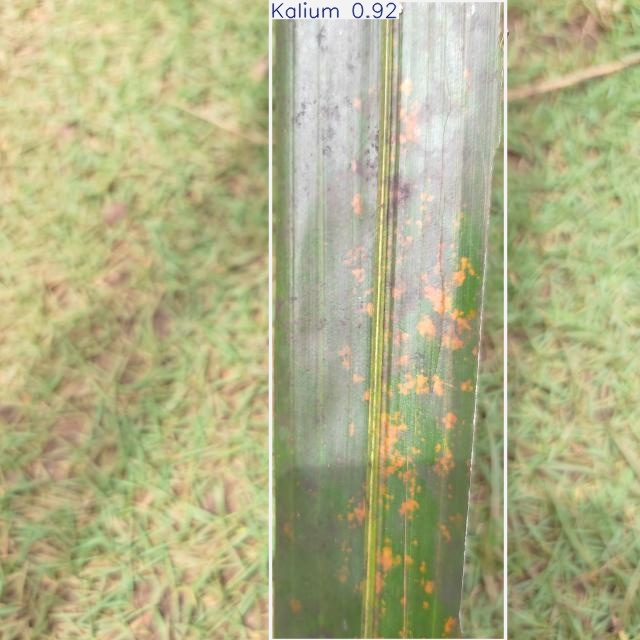Kalium: (270, 0, 505, 640)
